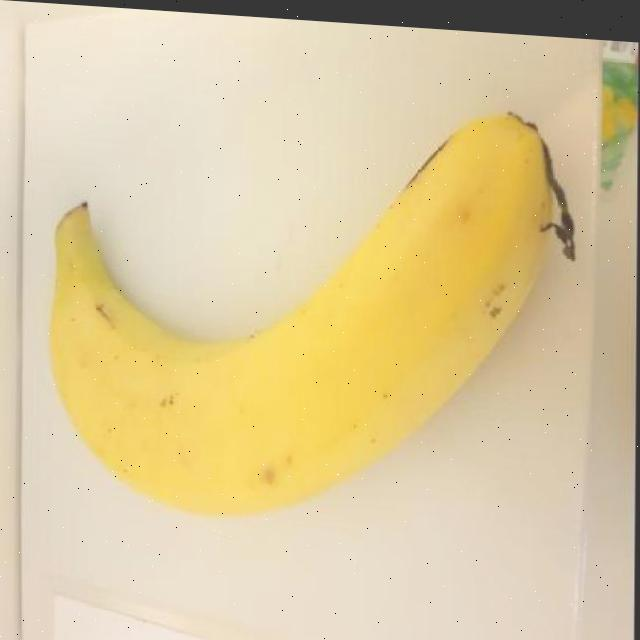banana: (47, 74, 579, 551)
